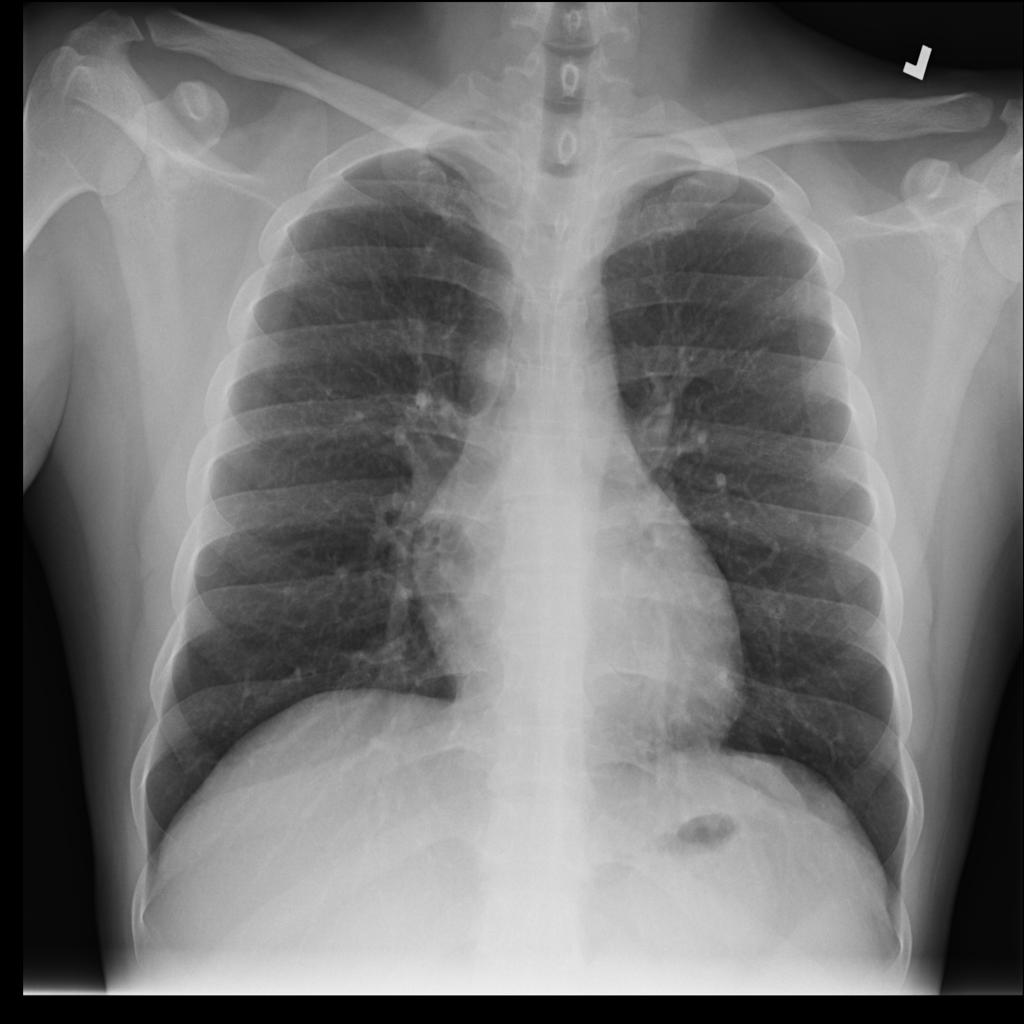nodule: (463, 329, 531, 402)
